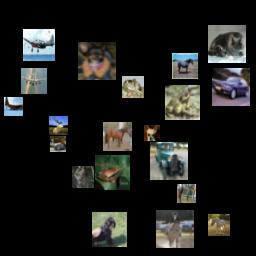airplane: (23, 29, 55, 61), (21, 68, 47, 94), (4, 97, 23, 116)
automobile: (212, 68, 250, 106), (150, 142, 188, 180)
bird: (50, 136, 66, 152)
cat: (208, 25, 246, 63), (72, 166, 94, 188), (122, 76, 144, 98)
deer: (49, 116, 68, 135)
dog: (78, 42, 116, 80), (92, 212, 127, 247), (144, 125, 160, 141)
frog: (165, 85, 200, 120), (95, 155, 130, 190)
